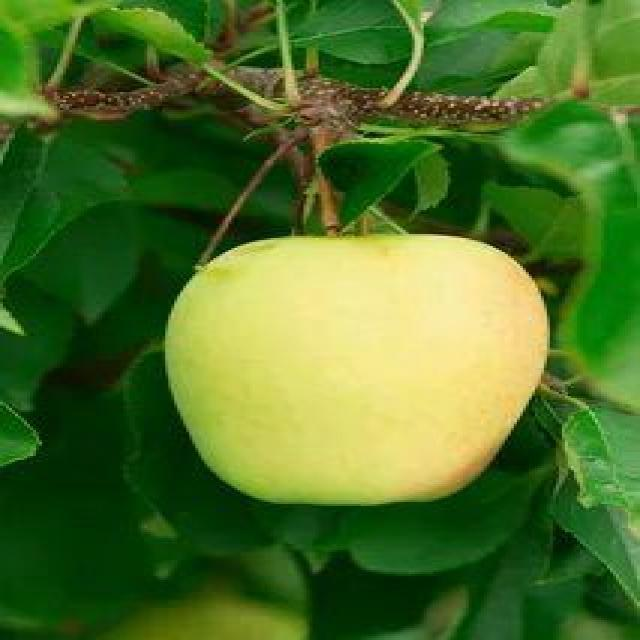Fresh Apple: (156, 222, 546, 523)
